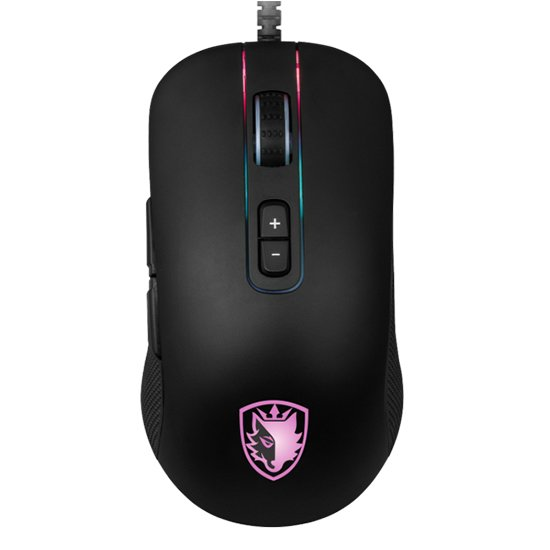Mouse: (136, 36, 408, 530)
